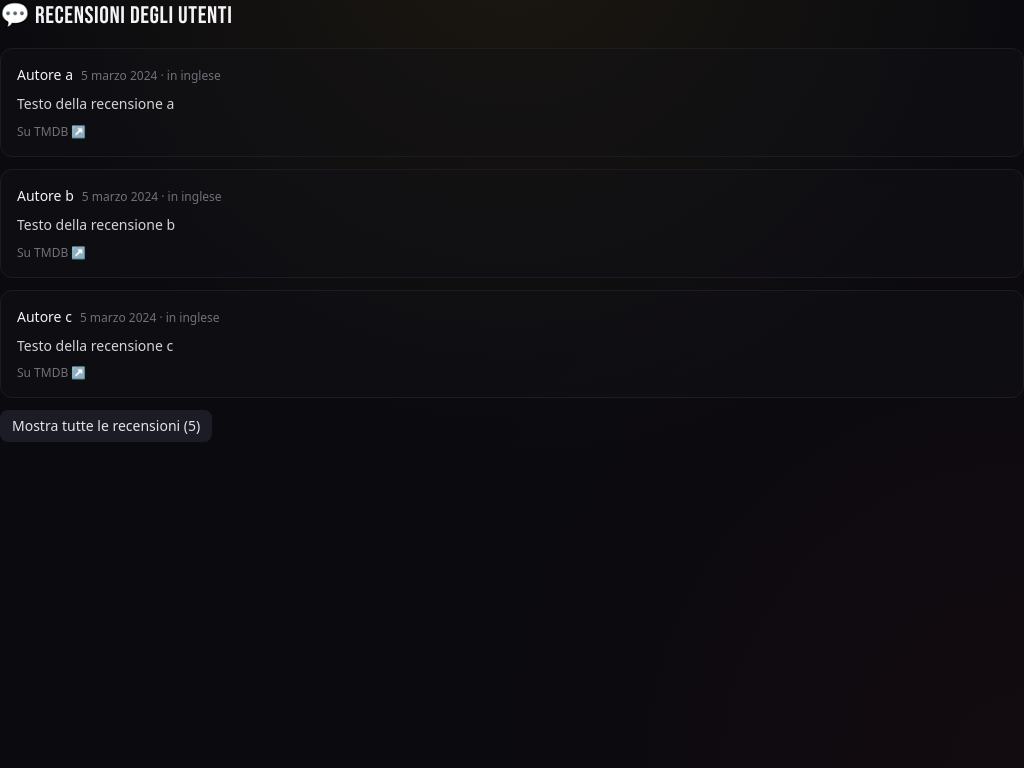
Test: RecensioniUtenti › ne mostra tre, e le altre a richiesta
Expected: the text "Autore a" is shown, [17,65,73,85]
Expected: the text "Autore d" is not shown
Step 1. Click the button "Mostra tutte le recensioni (5)" → x=106, y=426, box [0,410,212,442]
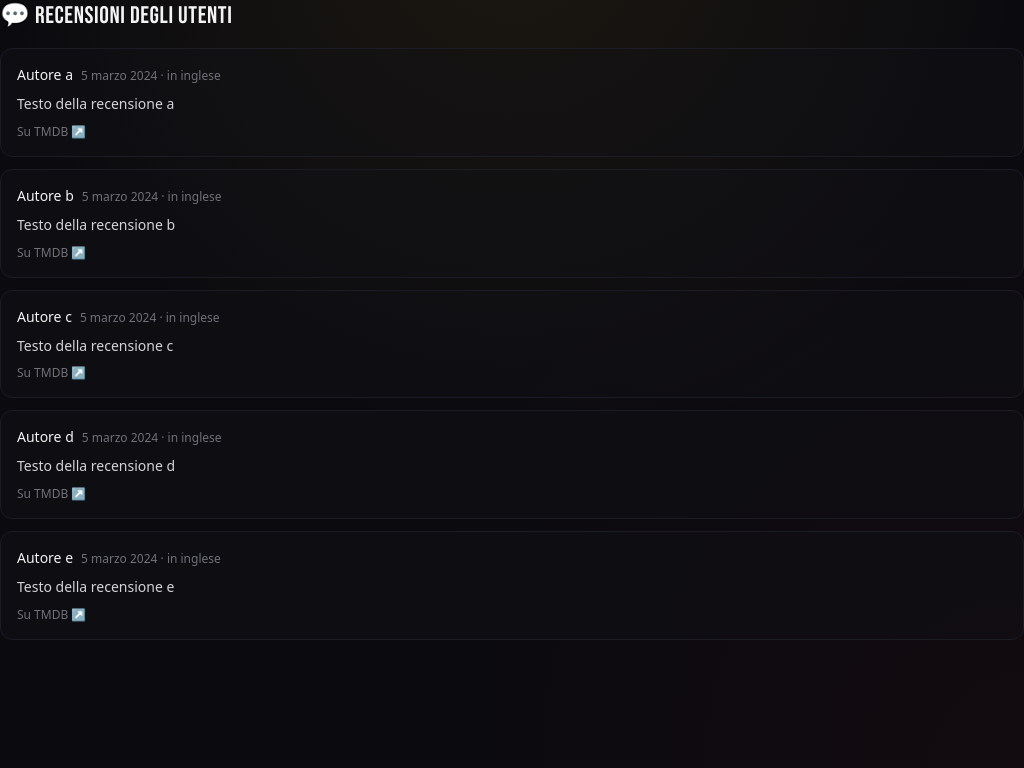
Expected: the text "Autore e" is shown, [17,548,73,568]
